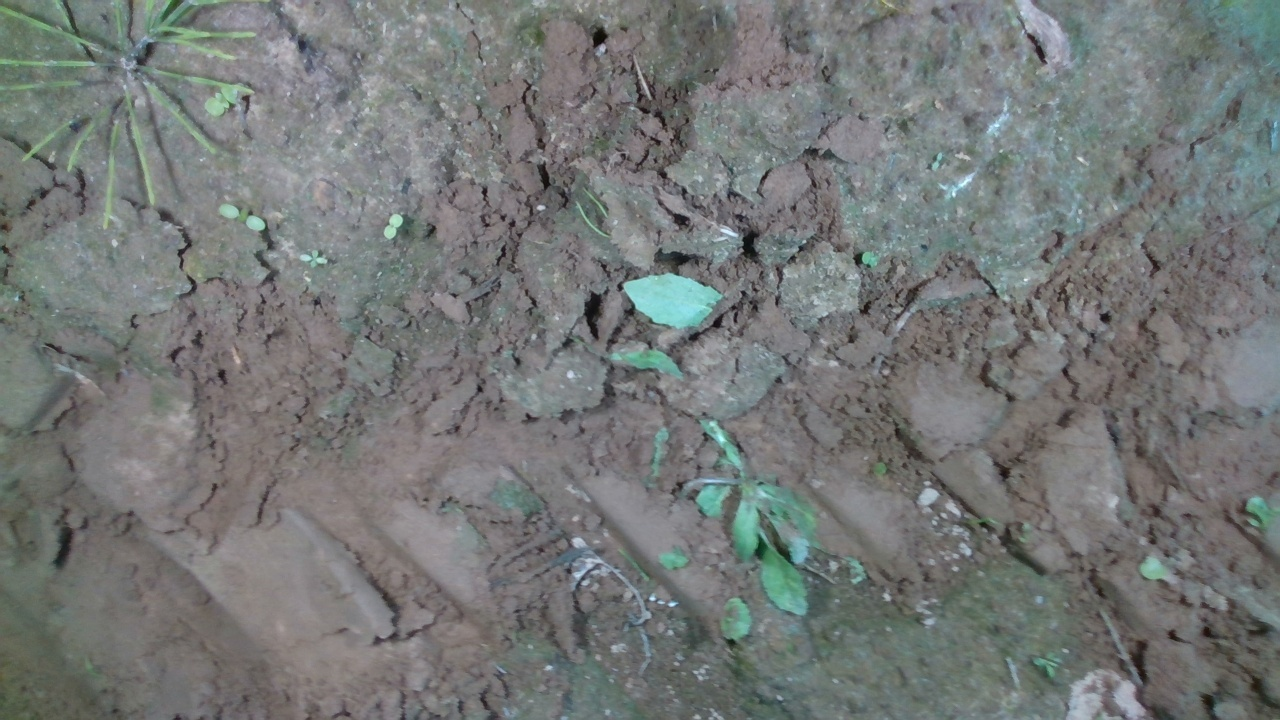weed: (360, 205, 409, 249), (212, 203, 270, 237), (289, 246, 326, 265)
